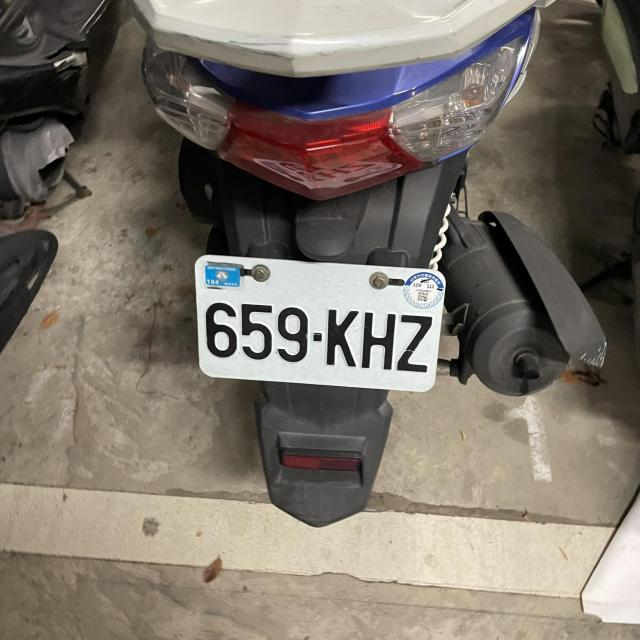W: (188, 253, 446, 393)
